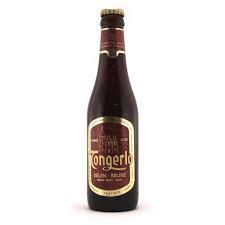Glass bottle: (72, 5, 158, 219)
